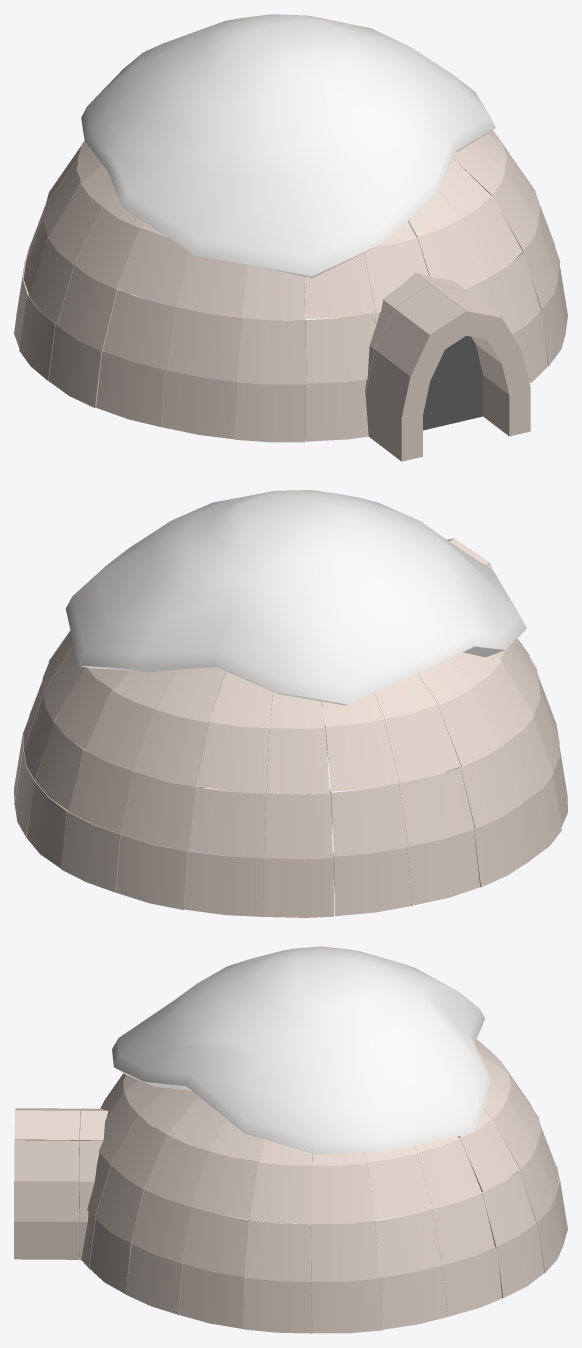
The model's file is Hut.glb.
The picture shows the model from 3 angles, top to bottom: view 1: azimuth 30°, elevation 25°; view 2: azimuth 150°, elevation 25°; view 3: azimuth 270°, elevation 25°; orthographic projection. The views are drawn at different scales.
Parts seen in each view (by area): view 1: Hut; view 2: Hut; view 3: Hut.
Part boxes in pixels (bbox=[...]): Hut: bbox=[14, 14, 567, 461]; Hut: bbox=[14, 490, 567, 917]; Hut: bbox=[14, 946, 567, 1333].
Size of the model in its own units: 1.5 by 0.8685 by 1.68.
Materials: 1 (1 with a texture image).
